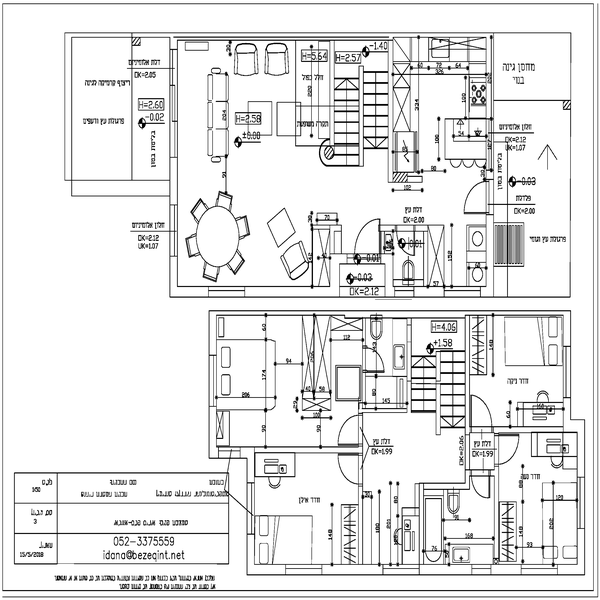door: (456, 179, 493, 220), (469, 390, 499, 430), (487, 432, 523, 464), (350, 214, 380, 252), (334, 414, 364, 444), (473, 466, 496, 501), (337, 455, 361, 484)
room: (168, 31, 502, 304), (374, 439, 589, 580), (366, 300, 577, 437), (207, 297, 366, 454), (237, 442, 366, 580)
wall: (210, 305, 577, 323), (479, 216, 498, 302), (239, 281, 340, 297), (567, 416, 589, 479), (165, 124, 180, 203), (416, 560, 475, 578), (322, 563, 384, 579), (571, 530, 587, 578), (381, 254, 396, 303), (166, 257, 182, 301), (207, 404, 218, 462), (241, 565, 289, 578), (326, 250, 348, 278), (489, 564, 522, 580), (246, 535, 257, 578), (409, 287, 447, 296)
window: (517, 558, 559, 581), (169, 51, 182, 123), (383, 562, 419, 584), (282, 559, 321, 575), (207, 353, 218, 403), (210, 284, 245, 299), (475, 563, 490, 583)
